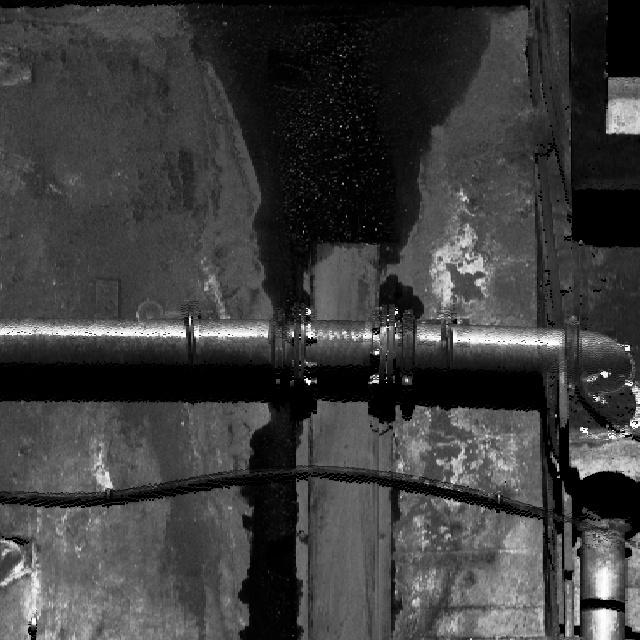leakage: (164, 0, 515, 325), (222, 402, 323, 639)
